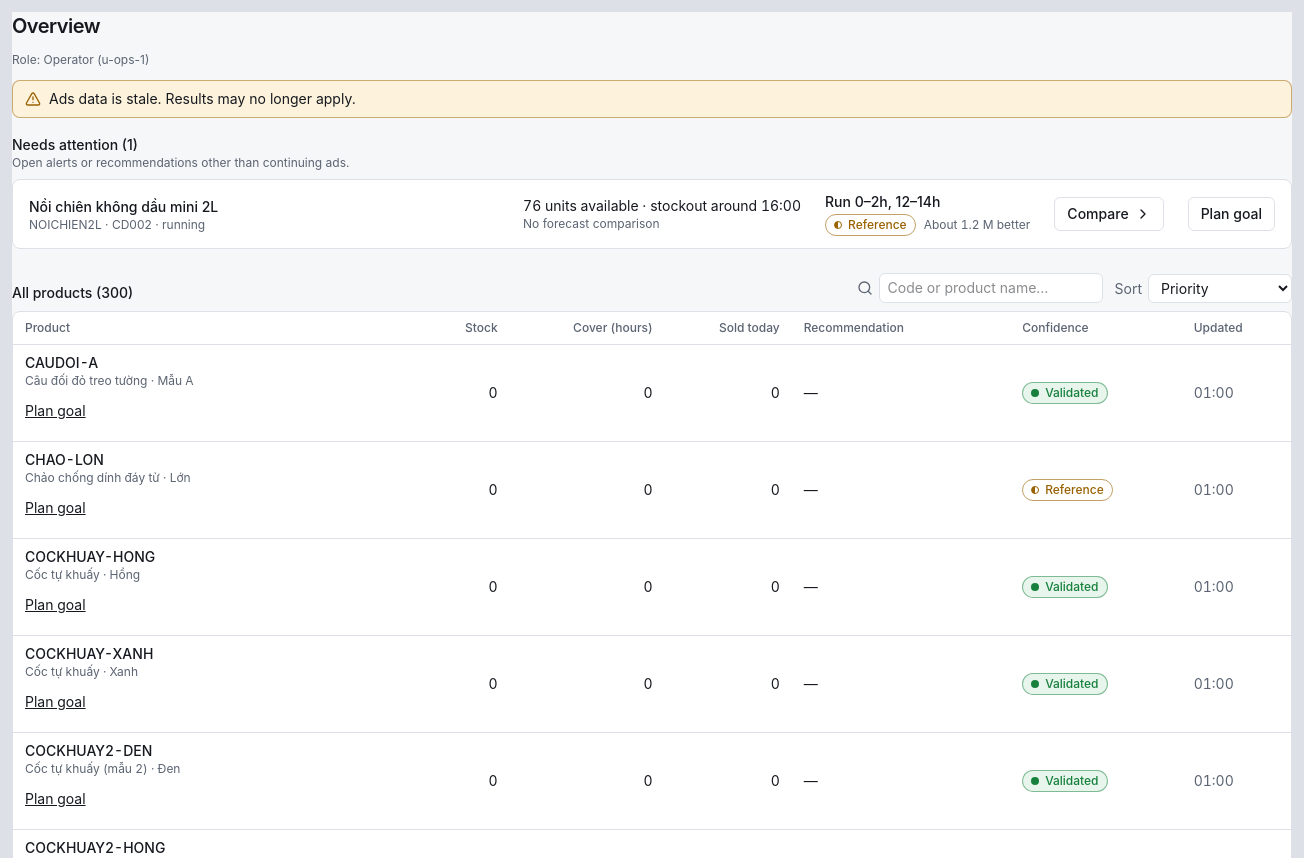
Test: Compare entry and overview link › overview "Compare" opens the compare screen for the SKU
This screenshot has width=1304, height=858.
Step 1. Click the link "Compare" → (1109, 214), box [1054,197,1164,231]
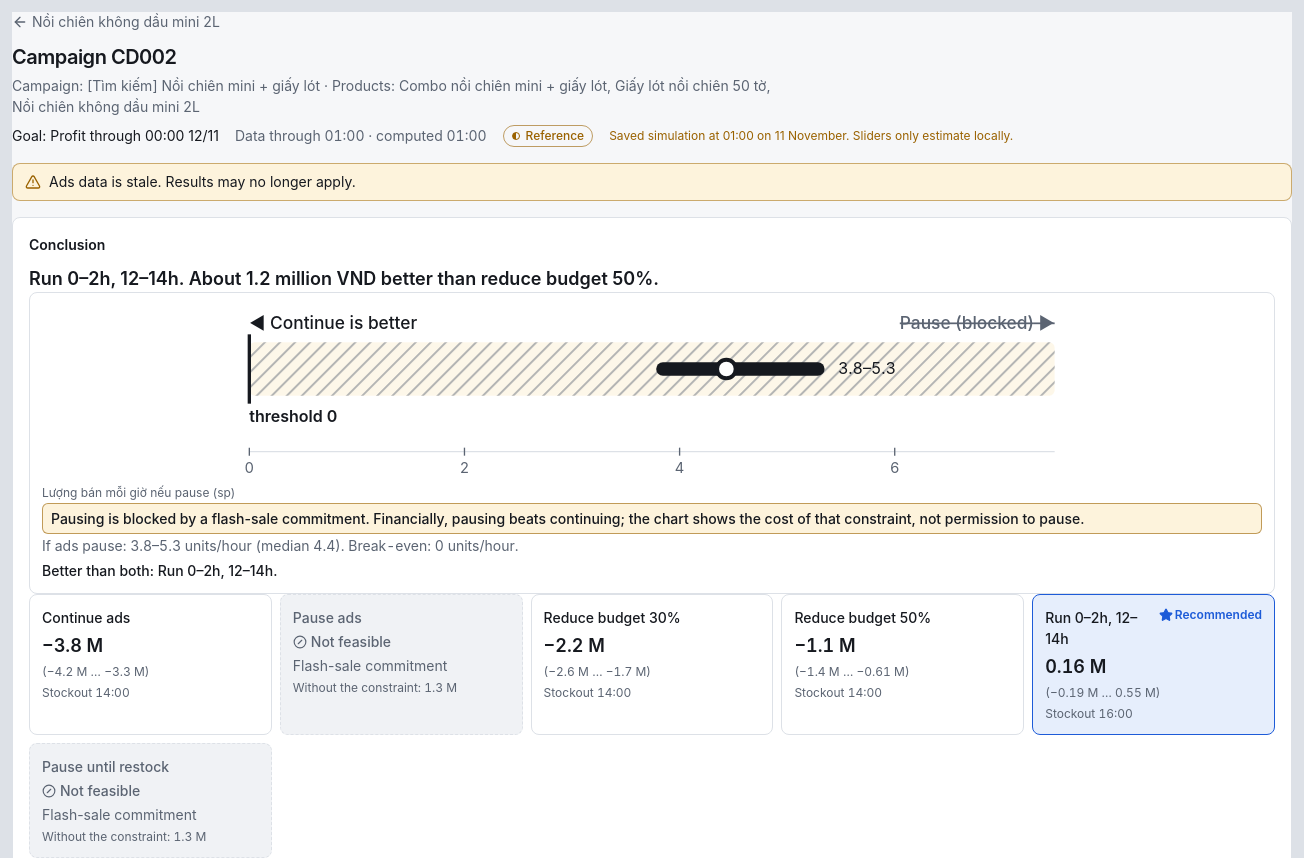
Result: the text "About 1.2 million VND better than reduce budget 50%" is shown at [29,268,659,289]
